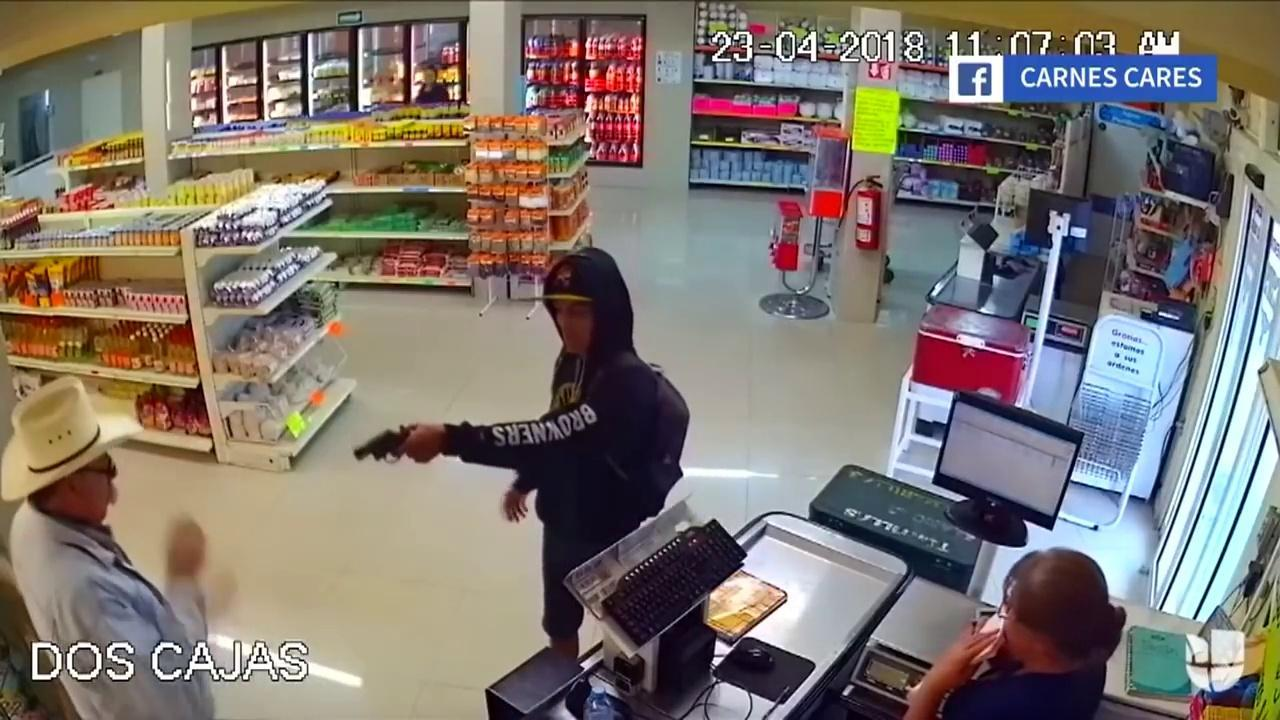Guns: (338, 408, 440, 486)
